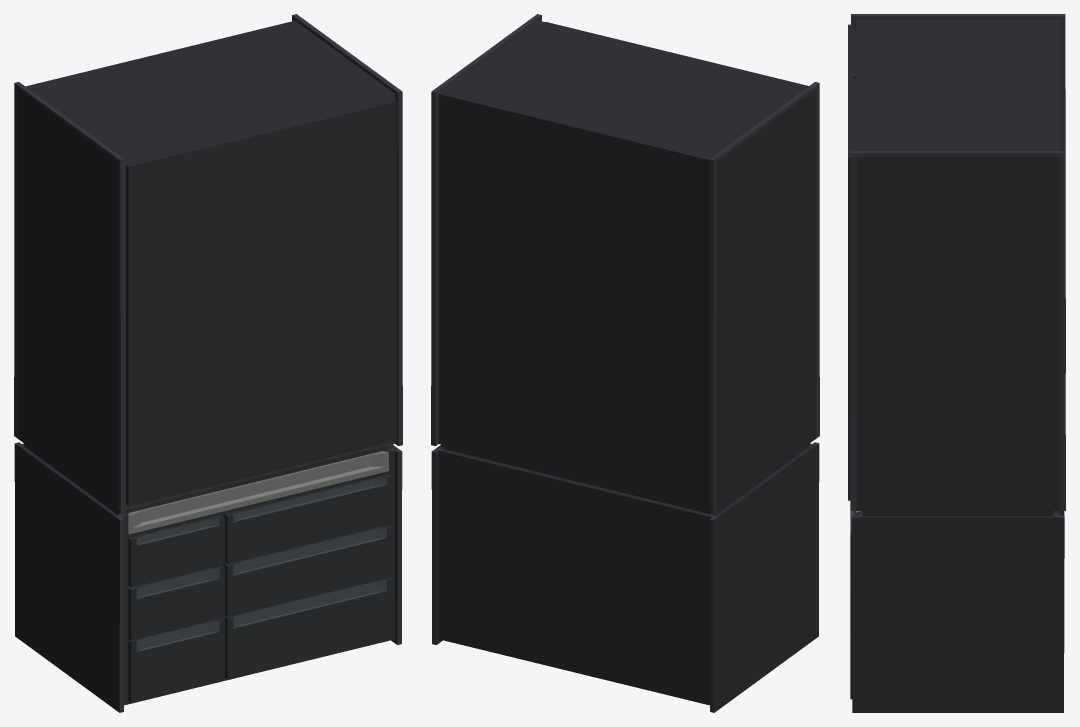
File: modernrefrigerator_01_E.gltf
3 renders of one model, left to right at view 1: azimuth 30°, elevation 25°; view 2: azimuth 150°, elevation 25°; view 3: azimuth 270°, elevation 25°, orthographic.
Parts seen in each view (by area): view 1: modernrefrigerator_01_E, rightdoorofamodernrefrigerator_01_E, Leftdoorofamodernrefrigerator_01_E, pulloutrefrigeratorshelfright_01_03_E, pulloutrefrigeratorshelfright_01_02_E, pulloutrefrigeratorshelfright_01_01_E, pulloutrefrigeratorshelfleft_01_03_E, pulloutrefrigeratorshelfleft_01_02_E, pulloutrefrigeratorshelfleft_01_01_E; view 2: modernrefrigerator_01_E; view 3: modernrefrigerator_01_E, rightdoorofamodernrefrigerator_01_E, Leftdoorofamodernrefrigerator_01_E.
Boxes of the visible parts, x1,y1,x2,y2 form: modernrefrigerator_01_E: [14, 14, 402, 712]; rightdoorofamodernrefrigerator_01_E: [225, 99, 396, 482]; Leftdoorofamodernrefrigerator_01_E: [126, 140, 226, 506]; pulloutrefrigeratorshelfright_01_03_E: [223, 577, 392, 678]; pulloutrefrigeratorshelfright_01_02_E: [222, 524, 392, 617]; pulloutrefrigeratorshelfright_01_01_E: [222, 474, 392, 563]; pulloutrefrigeratorshelfleft_01_03_E: [128, 618, 224, 702]; pulloutrefrigeratorshelfleft_01_02_E: [128, 565, 224, 640]; pulloutrefrigeratorshelfleft_01_01_E: [128, 515, 224, 587]; modernrefrigerator_01_E: [431, 14, 819, 712]; modernrefrigerator_01_E: [850, 14, 1065, 712]; rightdoorofamodernrefrigerator_01_E: [848, 73, 856, 500]; Leftdoorofamodernrefrigerator_01_E: [848, 24, 856, 78].
Size of the model in its own units: 1.3 by 2.43 by 0.859.
1 material, 1 textured.
